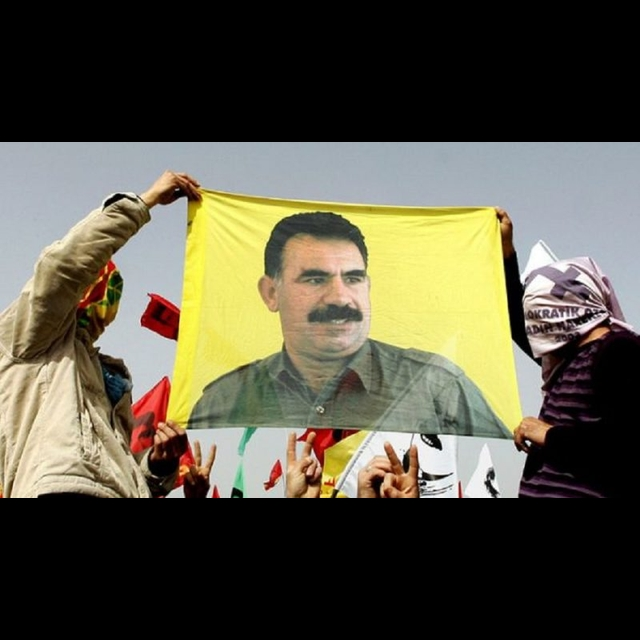APO: (247, 201, 395, 401)
